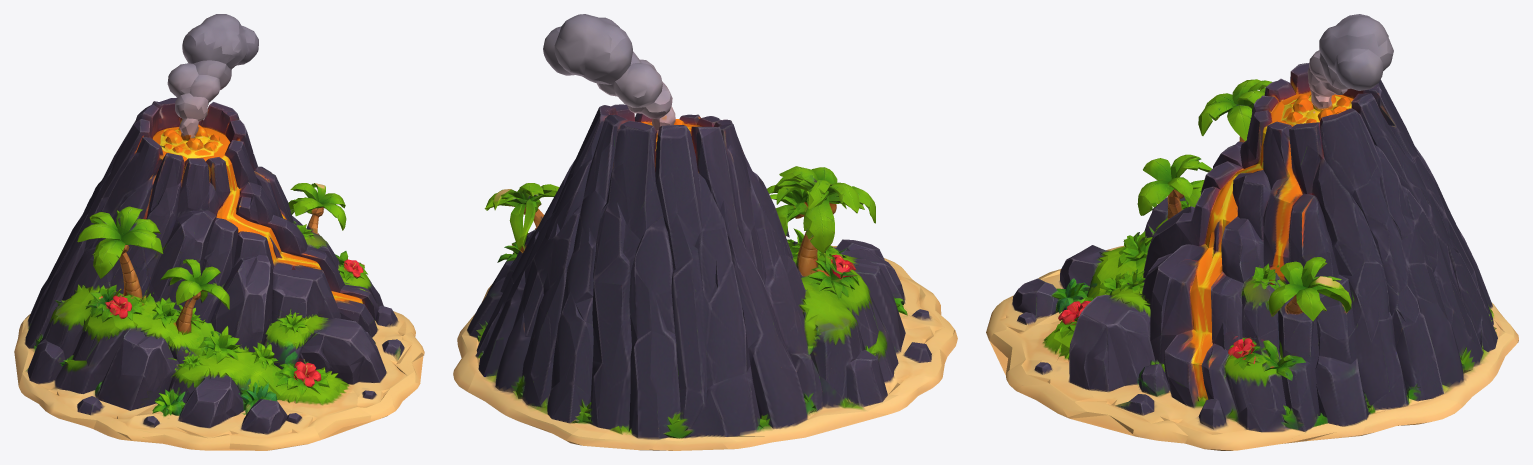
The model's file is volcano.glb.
The picture shows the model from 3 angles, left to right: view 1: azimuth 30°, elevation 25°; view 2: azimuth 150°, elevation 25°; view 3: azimuth 270°, elevation 25°; orthographic projection. The views are drawn at different scales.
Size of the model in its own units: 1.8 by 1.4 by 1.9.
Materials: 1 (1 with a texture image).
